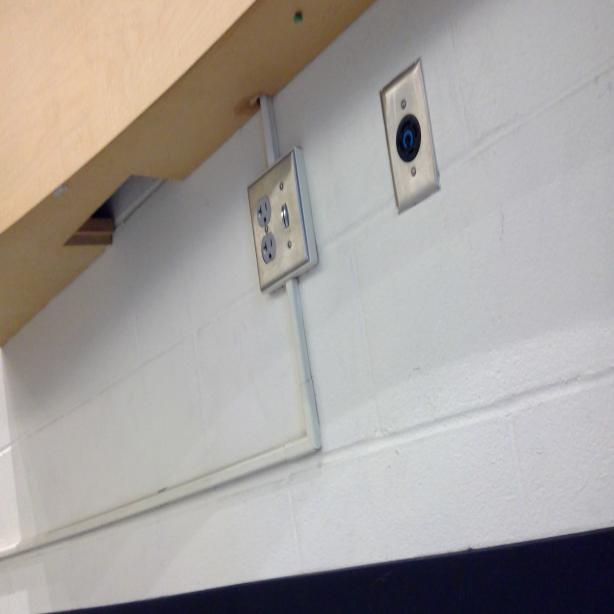typeb: (256, 196, 273, 226), (262, 236, 278, 262)
